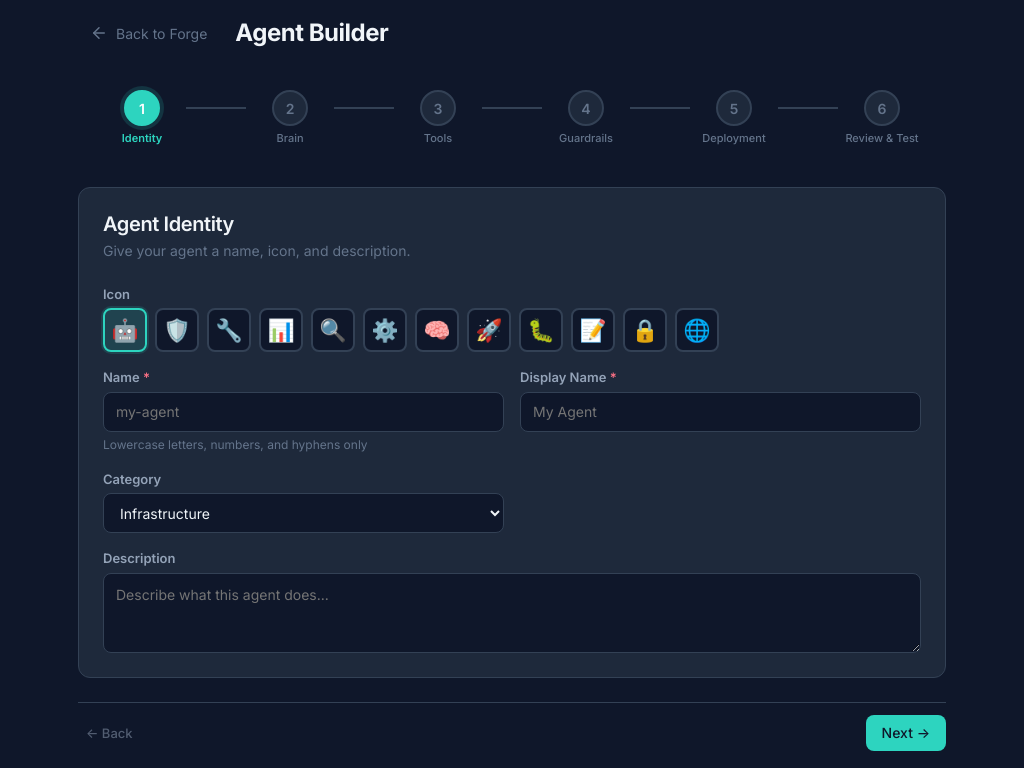
Scenario: AgentBuilder › next button advances to step 2
Fill required fields
Step 1. Type "test-agent" into the field with placeholder "my-agent" → (304, 412), box [103,392,504,432]
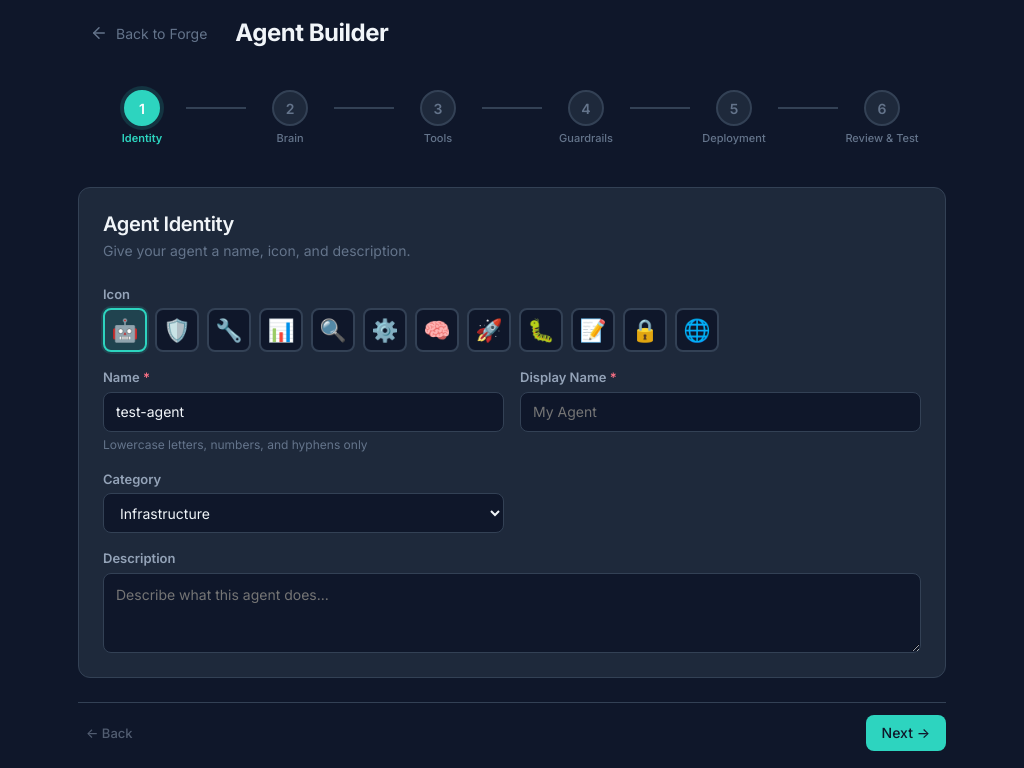
Step 2. Type "Test Agent" into the field with placeholder "My Agent" → (720, 412), box [520,392,921,432]
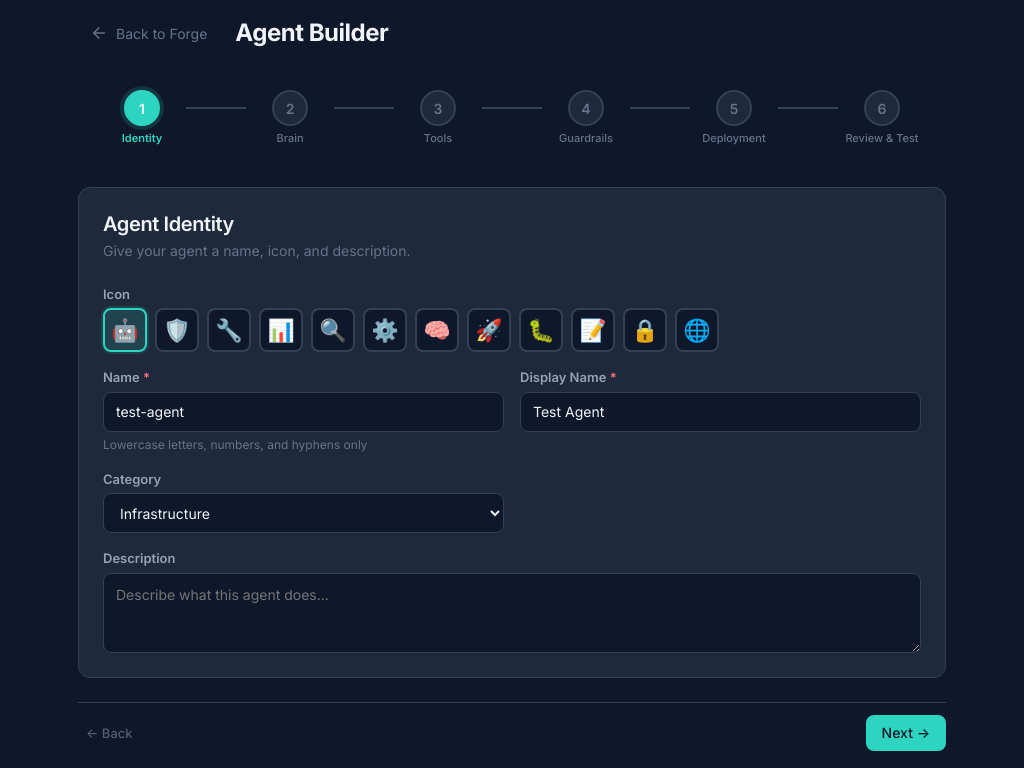
Step 3. Click the button "Next →" → click(906, 732), box [866,714,946,750]
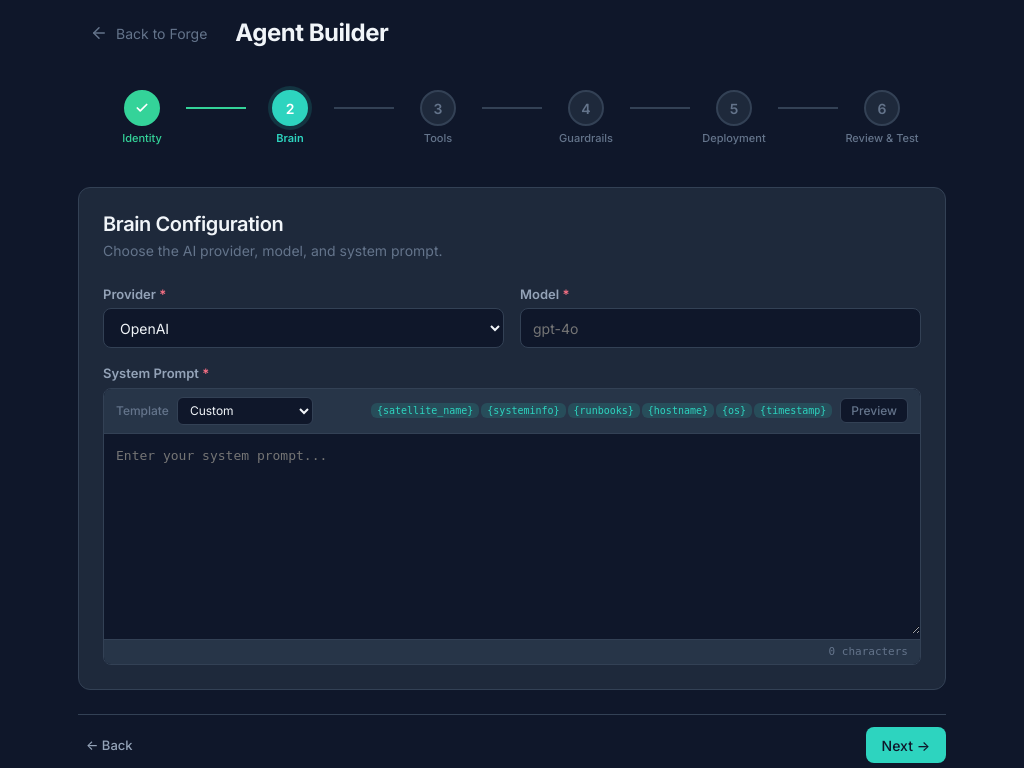
Expected: the heading "Brain Configuration" is shown, [103,212,283,236]
